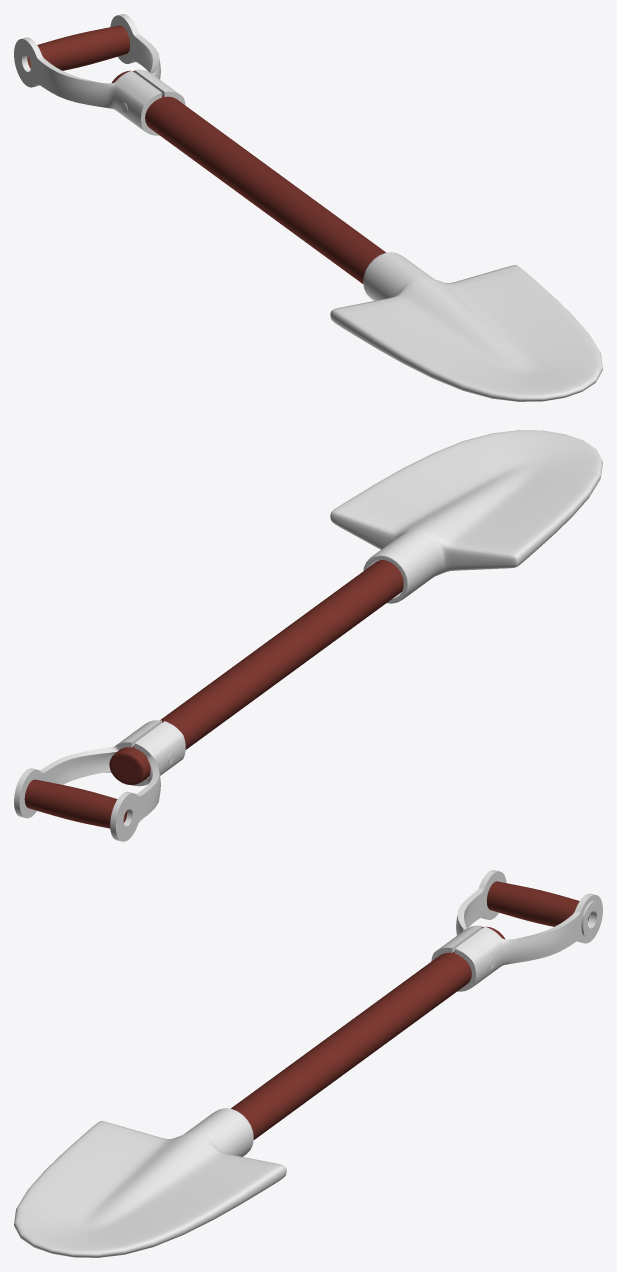
The model's file is Shovel.fbx.
3 renders of one model, top to bottom at view 1: azimuth 30°, elevation 25°; view 2: azimuth 150°, elevation 25°; view 3: azimuth 330°, elevation 25°, orthographic.
Visible parts, largest first — view 1: Shovel; view 2: Shovel; view 3: Shovel.
Boxes of the visible parts, box(x1,y1,x2,y2) form: Shovel: box(14, 14, 602, 401); Shovel: box(14, 430, 602, 841); Shovel: box(14, 870, 602, 1257).
Bounding box in the file's own units: 56.06 × 13.76 × 258.
